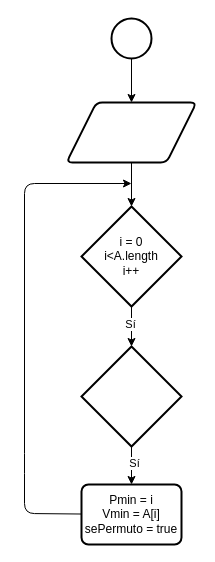
The diagram is 215 pixels wide and 562 high, and some of its shapes have lost their labels. Each missing label, with the centre of its shape:
"A = [2,6,1,4] i = 0" belongs at pixel 131 132.
"if(A[i]>A(i+1)) i++" belongs at pixel 131 396.
